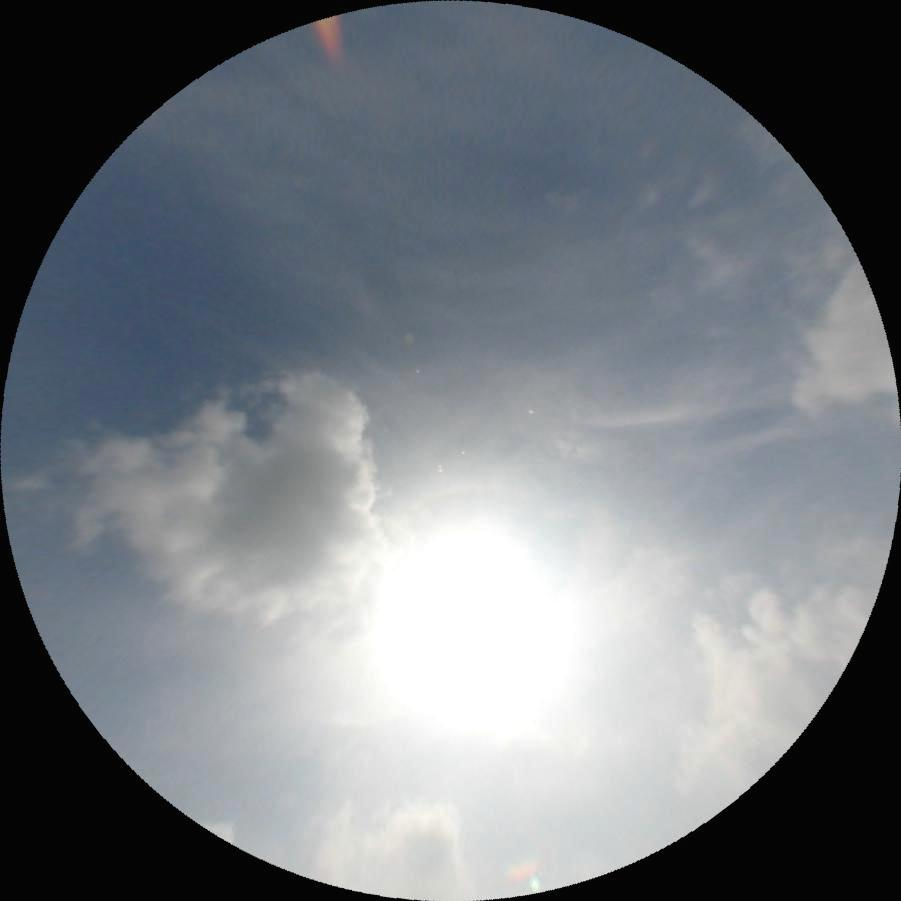sun: (377, 530, 568, 720)
